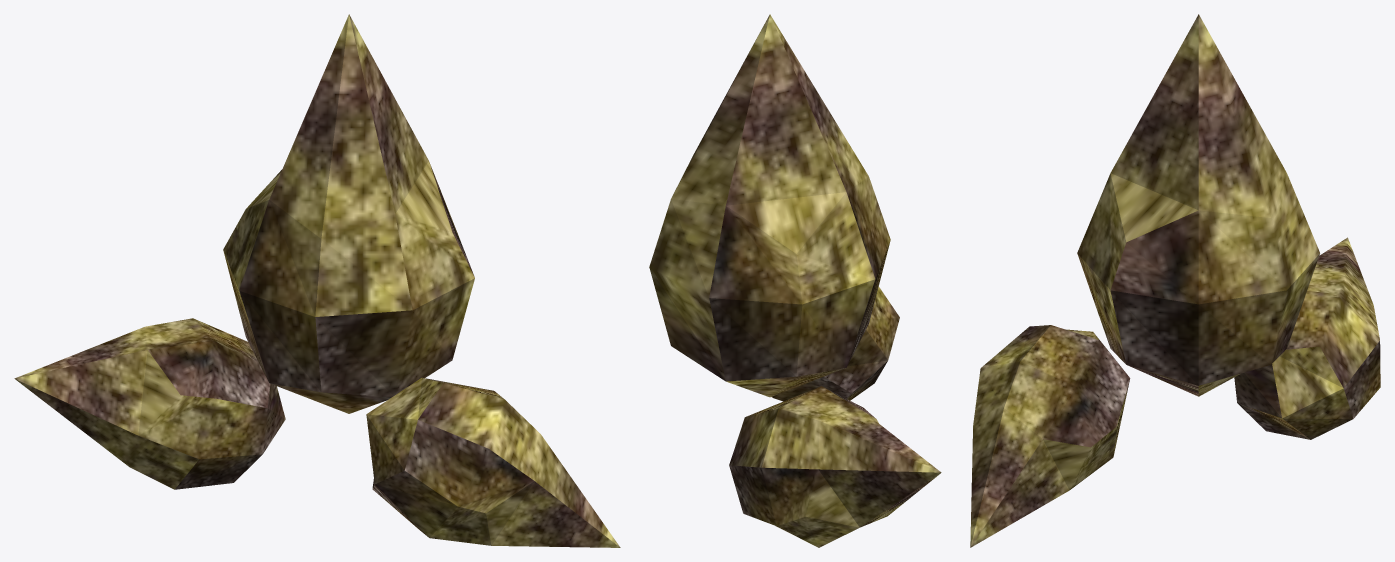
Rendered from NASIONO29.glb.
3 views of the same model, side by side, from view 1: azimuth 30°, elevation 25°; view 2: azimuth 150°, elevation 25°; view 3: azimuth 270°, elevation 25° (orthographic). The views are drawn at different scales.
Visible parts, largest first — view 1: NASIONO29; view 2: NASIONO29; view 3: NASIONO29.
Boxes of the visible parts, x1=… form: NASIONO29: x1=14, y1=14, x2=620, y2=547; NASIONO29: x1=649, y1=14, x2=941, y2=547; NASIONO29: x1=970, y1=14, x2=1380, y2=547.
Bounding box in the file's own units: 0.0991 × 0.1119 × 0.0899.
Materials: 1 (1 with a texture image).
